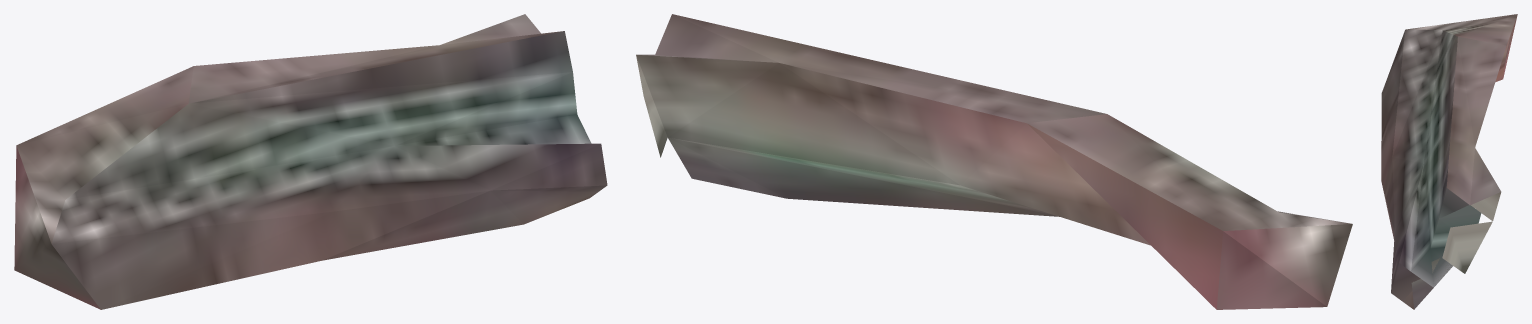
3 renders of one model, left to right at view 1: azimuth 30°, elevation 25°; view 2: azimuth 150°, elevation 25°; view 3: azimuth 270°, elevation 25°, orthographic. The views are drawn at different scales.
Parts seen in each view (by area): view 1: Mesh_0; view 2: Mesh_0; view 3: Mesh_0.
Part boxes in pixels (x1,y1,x2,y2): Mesh_0: (14,14,607,309); Mesh_0: (636,14,1352,309); Mesh_0: (1381,14,1517,309).
Size of the model in its own units: 8.24 by 2.49 by 2.23.
1 material, 1 textured.
